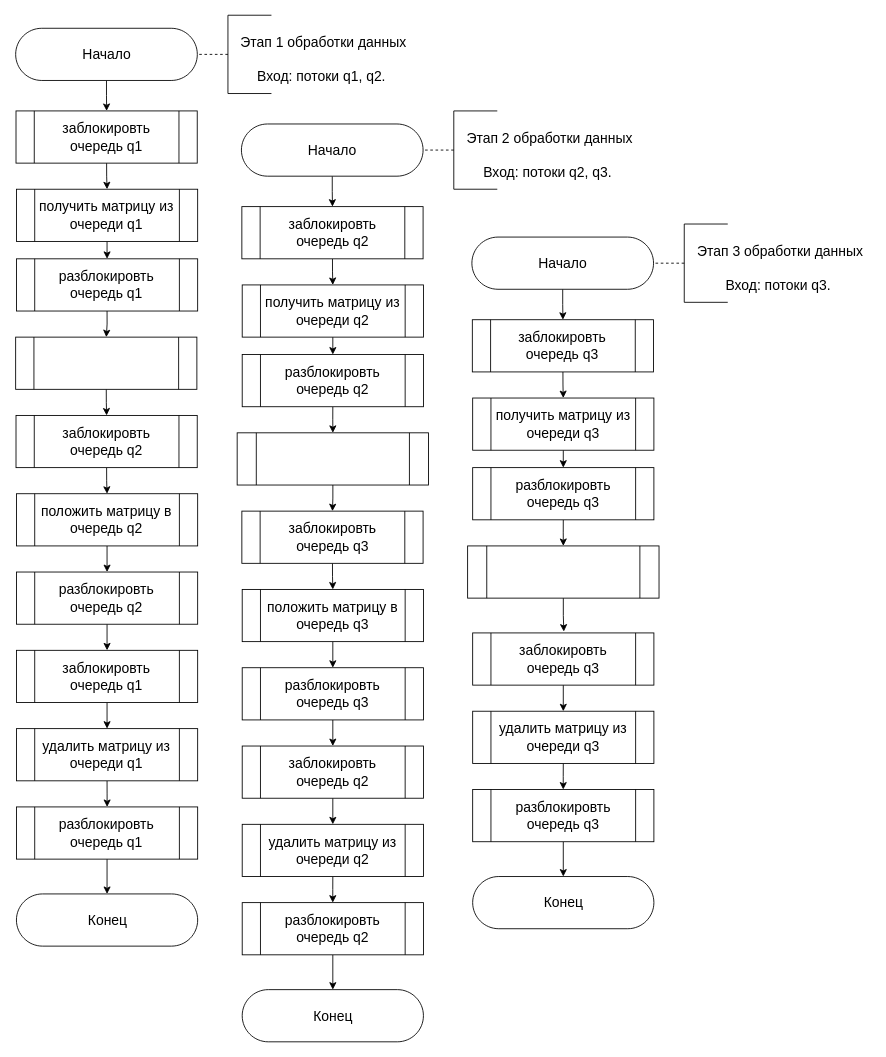
Image size: 886x1057. Some labels were removed from this diagram. Each missing label, with the centre of its shape:
записать в каждую яч. матрицы ост. от дел. тек. эл. на minElem: (332,458)
найти минимальный элемент матрицы: (106,362)
найти сумму элементов матрицы: (563,571)
